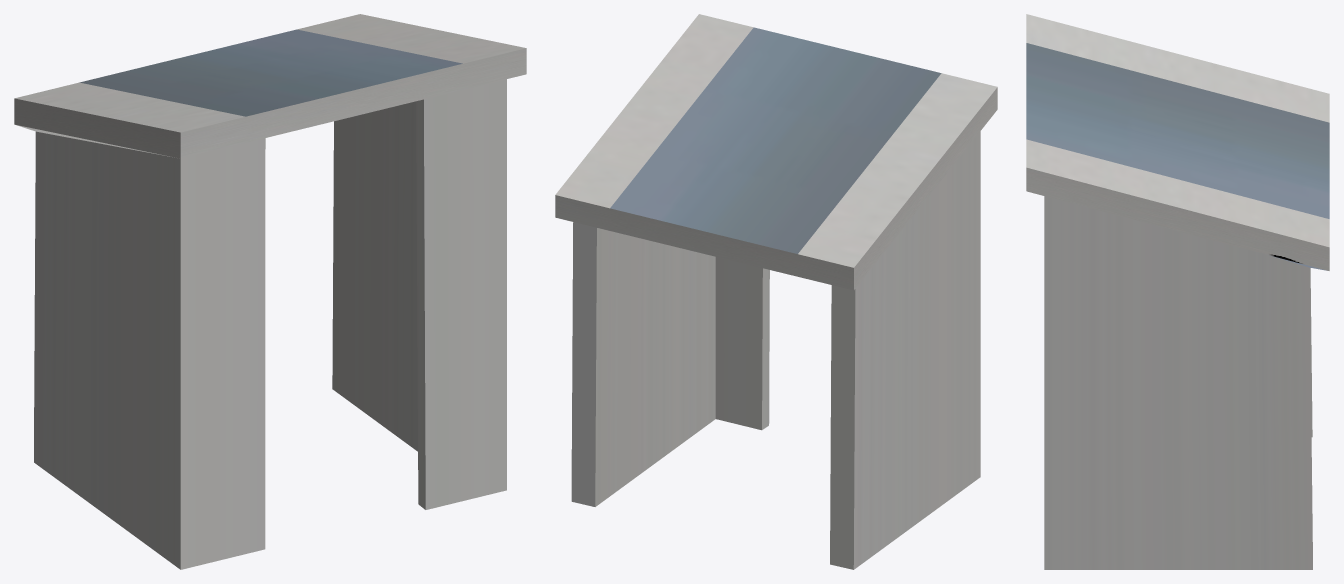
Rendered from desk3.fbx.
3 renders of one model, left to right at view 1: azimuth 30°, elevation 25°; view 2: azimuth 150°, elevation 25°; view 3: azimuth 270°, elevation 25°, orthographic. The views are drawn at different scales.
Visible parts, largest first — view 1: Cube; view 2: Cube; view 3: Cube.
Part boxes in pixels (x1,y1,x2,y2): Cube: (14,14,526,569); Cube: (555,14,997,569); Cube: (1026,14,1329,569).
Bounding box in the file's own units: 201 × 249 × 168.
